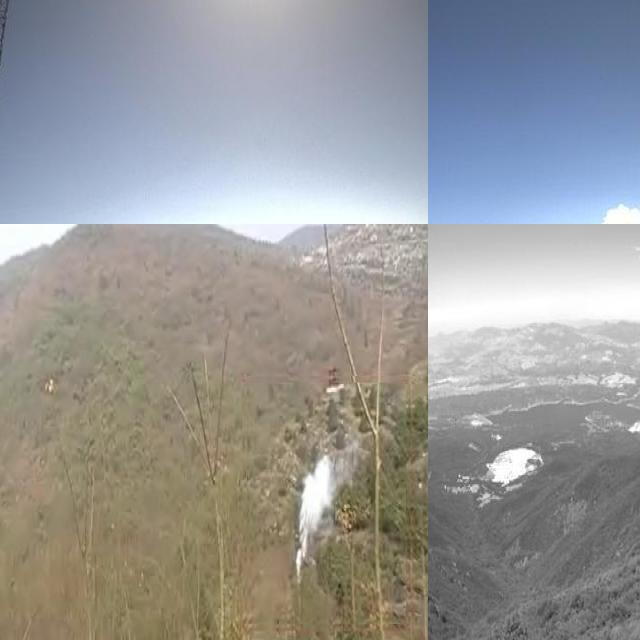smoke: (295, 452, 358, 576)
